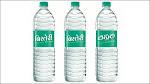Bisleri: (34, 30, 53, 46), (97, 31, 116, 45), (65, 33, 84, 46)
